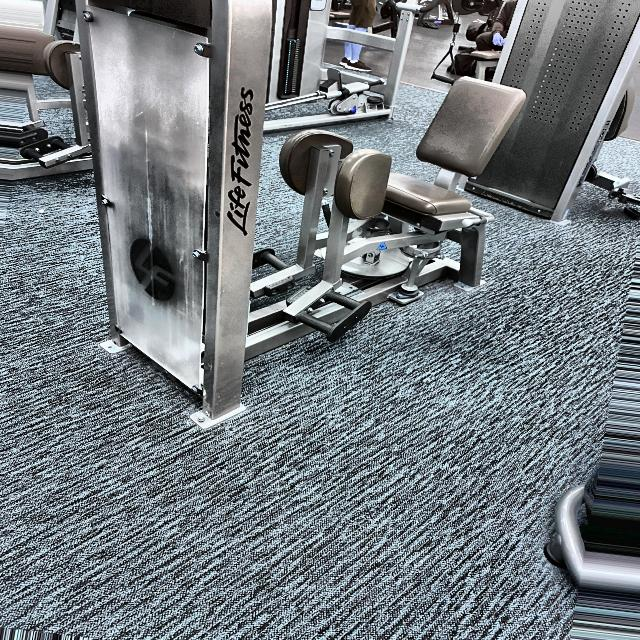hip_adduction_machine: (268, 82, 554, 352), (271, 114, 442, 329)
